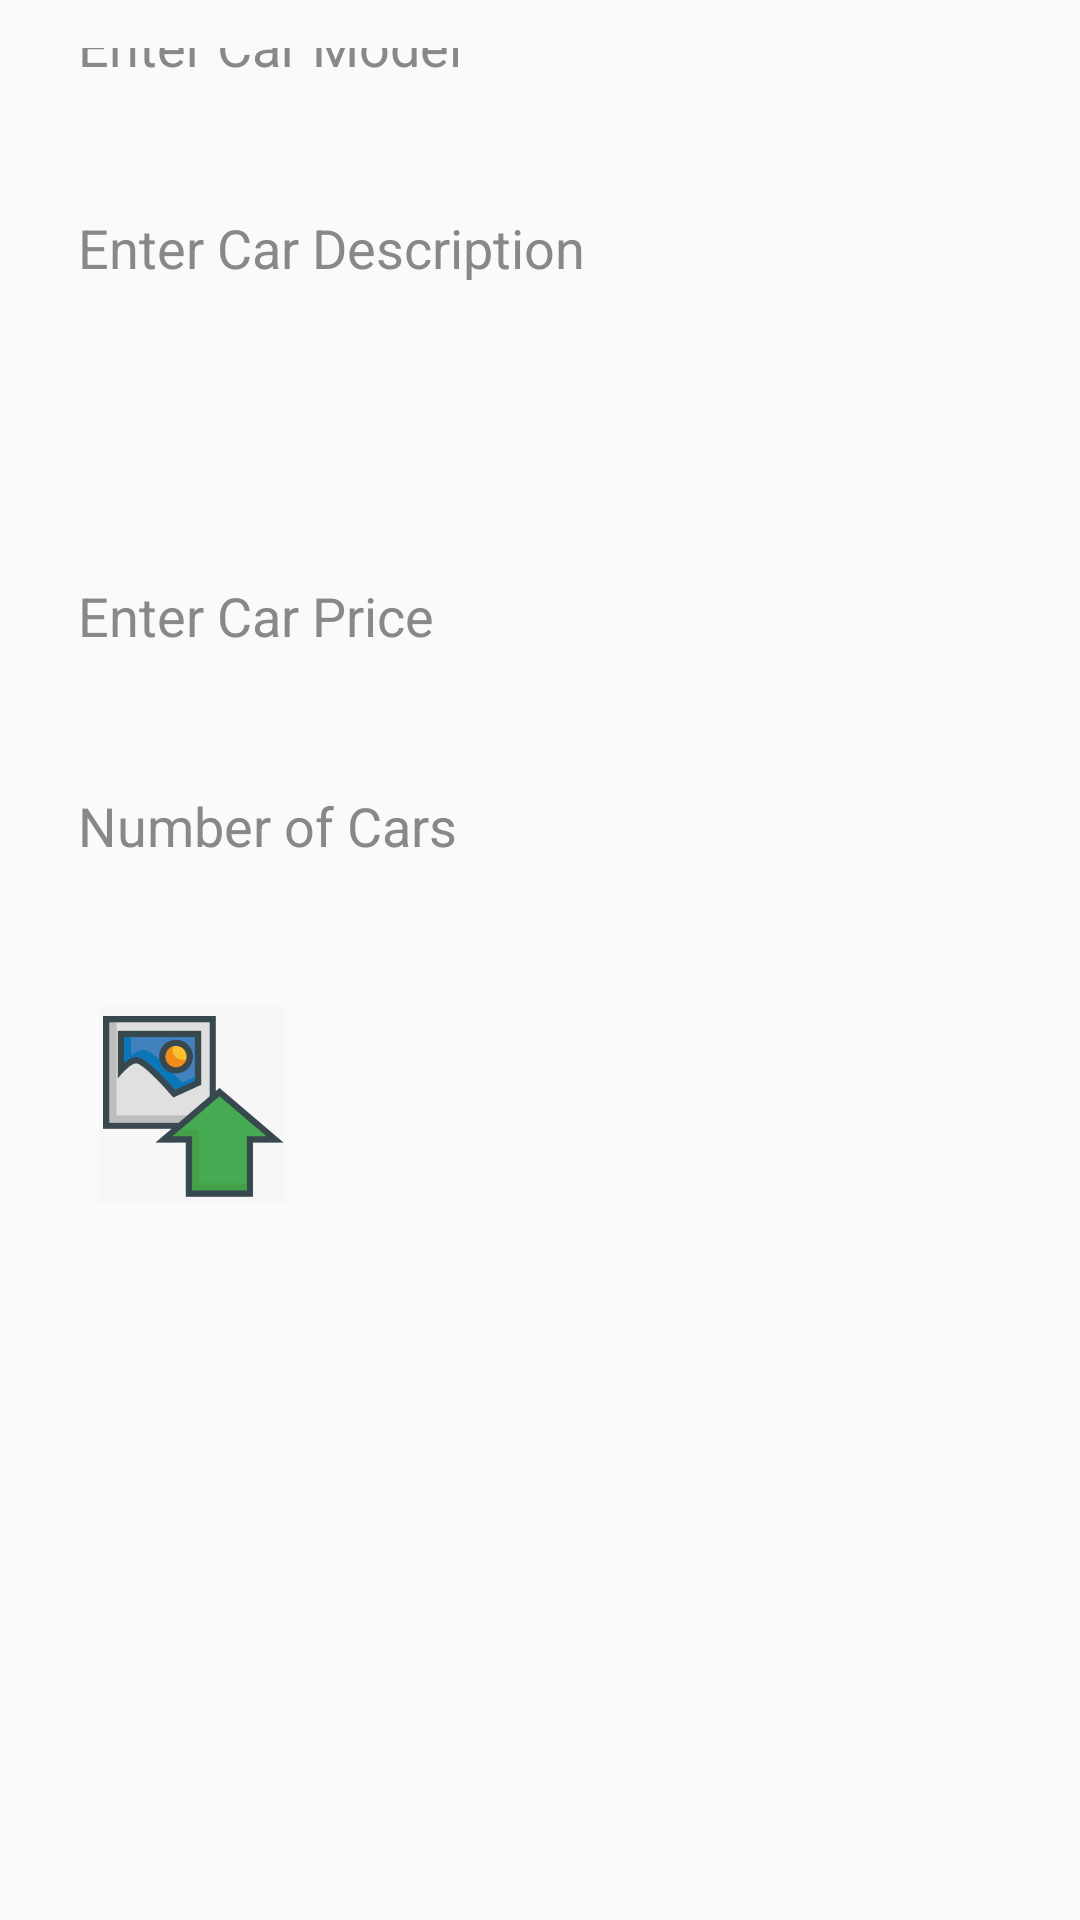

Named icons in this screenshot (1080x1920) and their centers, [x,y]:
load: [193,1106]
